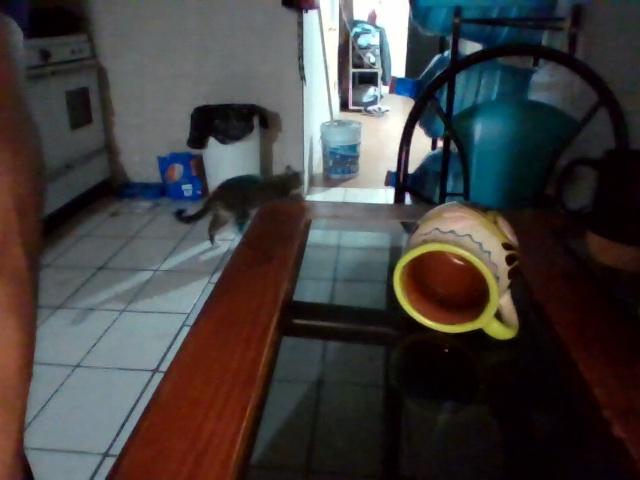taza: (383, 331, 490, 479)
